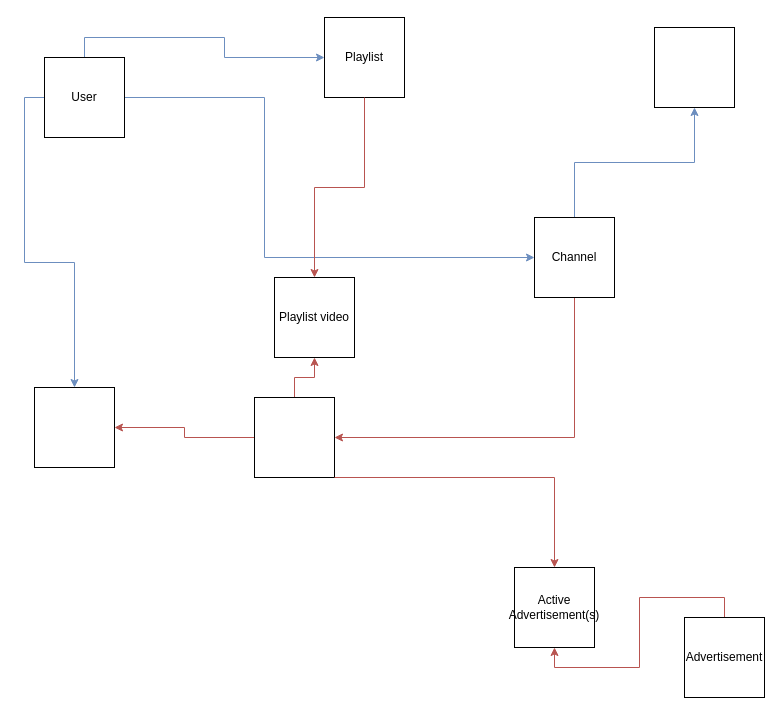
The diagram is 782 pixels wide and 715 high, and some of its shapes have lost their labels. Here are the shapes that lost their labels. From the top down, the box of each, then its label:
(654, 26, 734, 108): Online shop
(34, 386, 114, 468): Video data (Likes, comments, views)
(254, 396, 334, 478): Video
